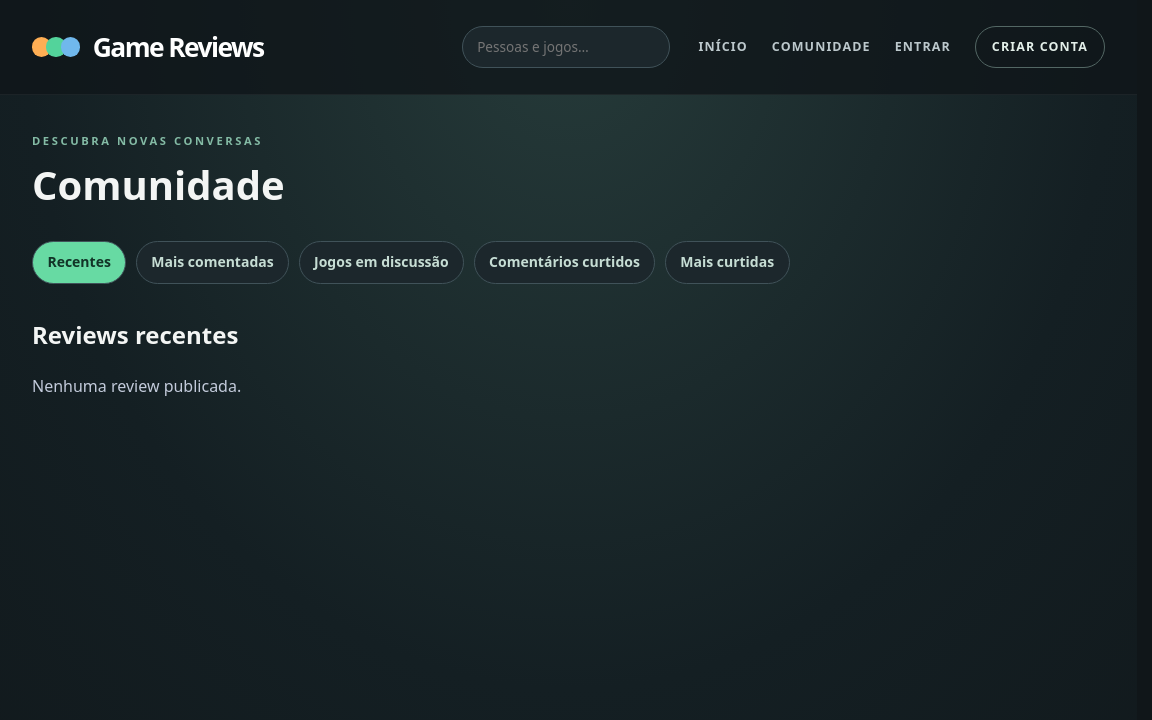
Test case: Mais curtidas consulta reviews publicamente, mostra conteúdo e pagina/reset por período
This screenshot has width=1152, height=720.
Click the button "Mais curtidas" at (727, 262), box [665,240,790,284]
(page scrolled)
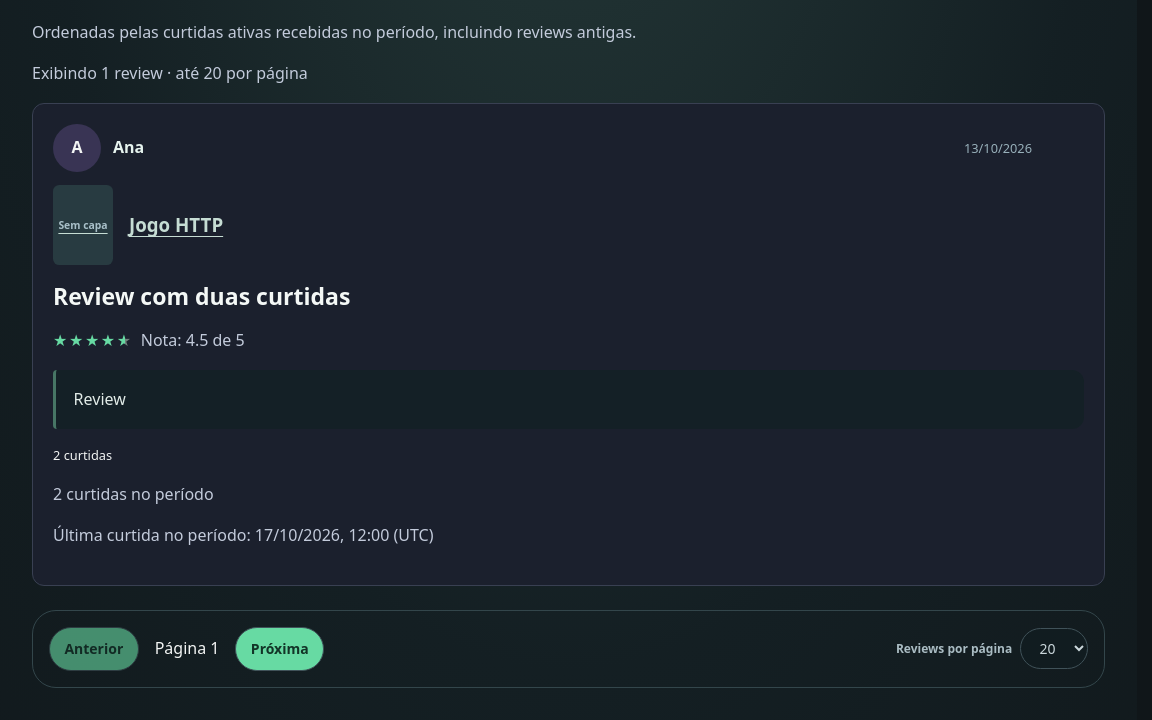
Expected: the heading "Review com duas curtidas" is shown, [53,280,350,312]
Expected: the text "2 curtidas no período" is shown, [53,483,214,505]
Click the button "Próxima" at (280, 649), box [236,627,324,670]
(page scrolled)
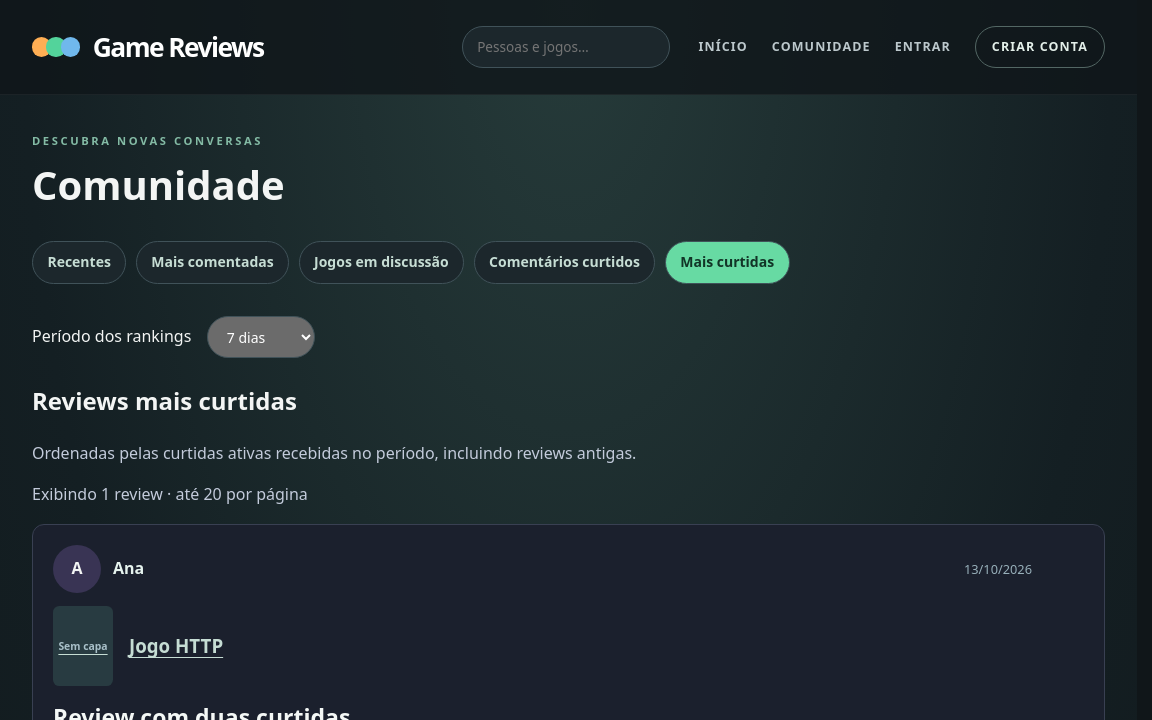
Select "24 horas" in the dropdown labelled "Período dos rankings" at (261, 337), box [207,316,315,358]
(page scrolled)
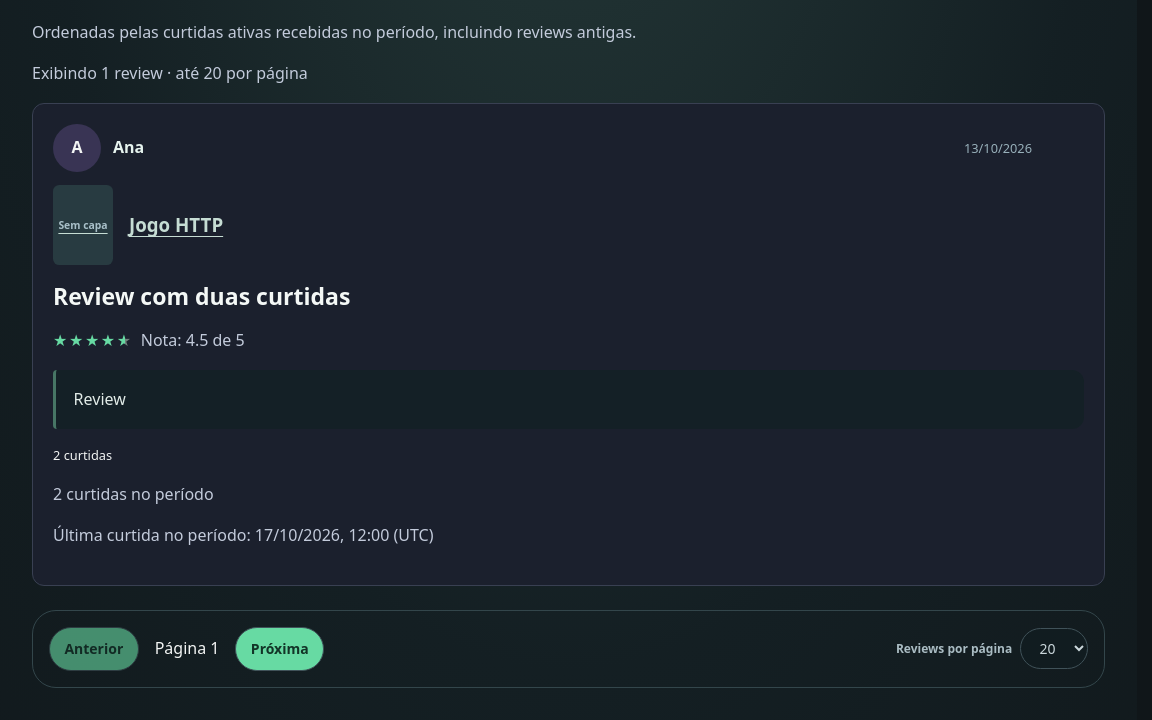
Expected: the text "Página 1" is shown, [155,636,219,662]
